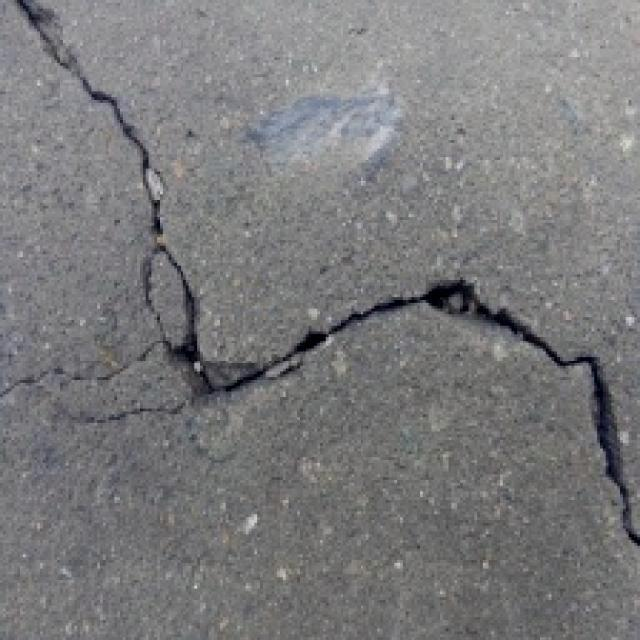crack: (220, 266, 640, 578), (0, 0, 290, 412)
